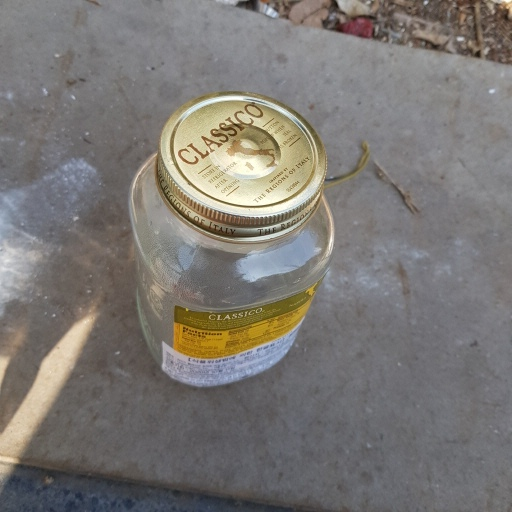Glass_5: (117, 90, 337, 385)
